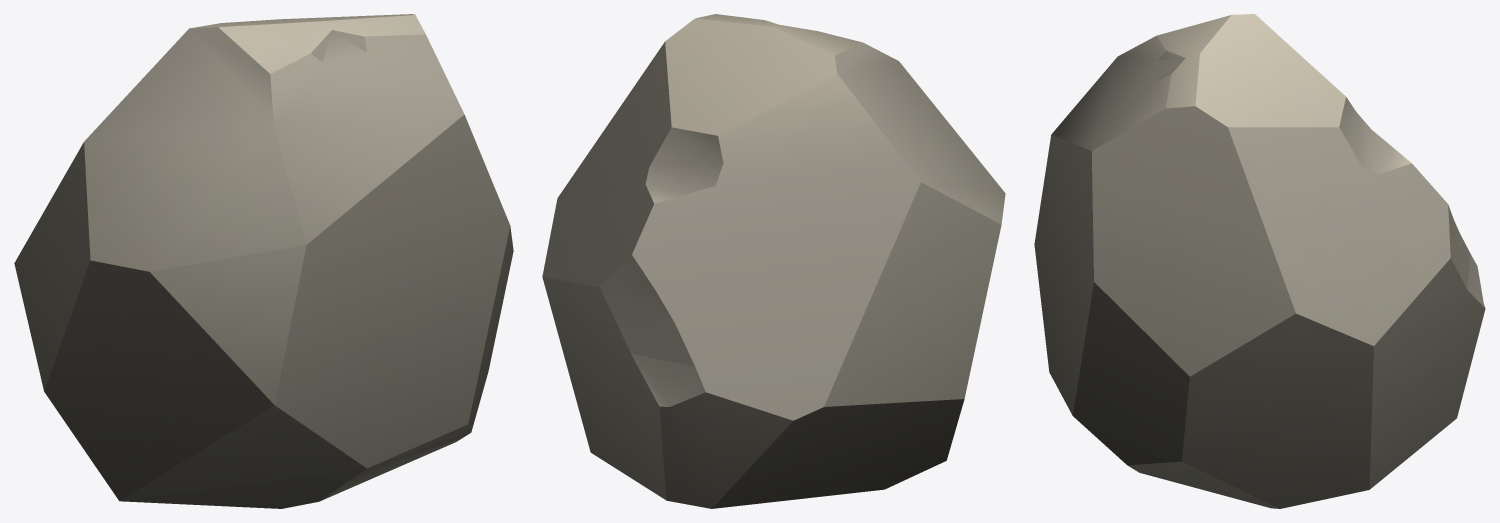
The model's file is Rock_Medium_1B.fbx.
3 renders of one model, left to right at view 1: azimuth 30°, elevation 25°; view 2: azimuth 150°, elevation 25°; view 3: azimuth 270°, elevation 25°, orthographic. The views are drawn at different scales.
Parts seen in each view (by area): view 1: Rock_Medium_1B; view 2: Rock_Medium_1B; view 3: Rock_Medium_1B.
Boxes of the visible parts, box(x1,y1,x2,y2) form: Rock_Medium_1B: box(14, 14, 513, 508); Rock_Medium_1B: box(542, 14, 1005, 508); Rock_Medium_1B: box(1034, 14, 1485, 508).
Size of the model in its own units: 208 by 214 by 209.
